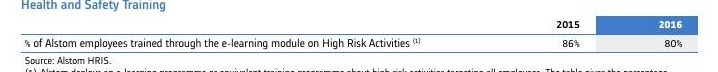table: (0, 0, 718, 72)
